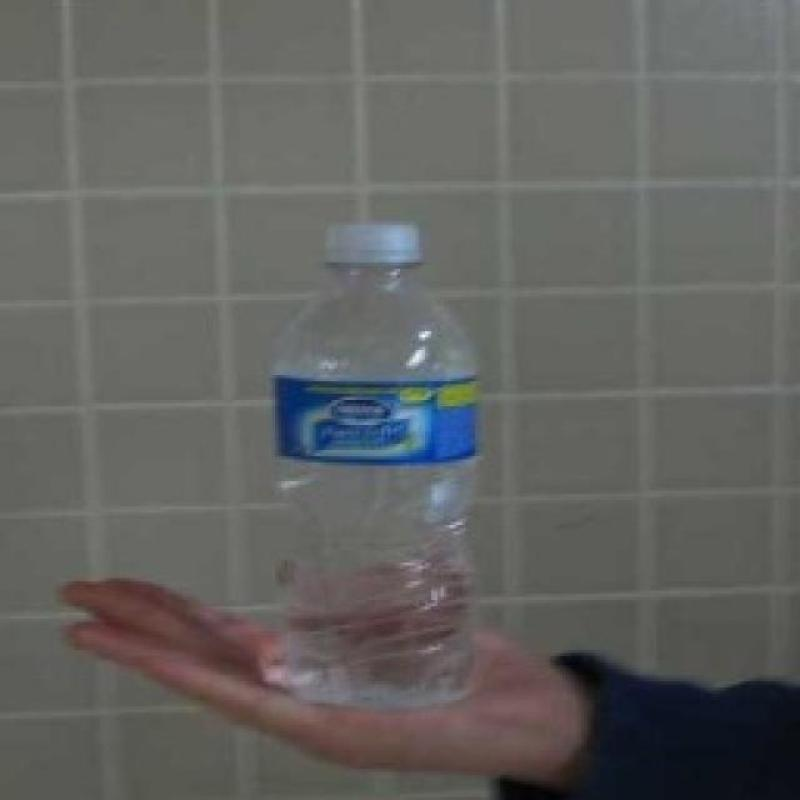botella: (266, 220, 482, 705)
